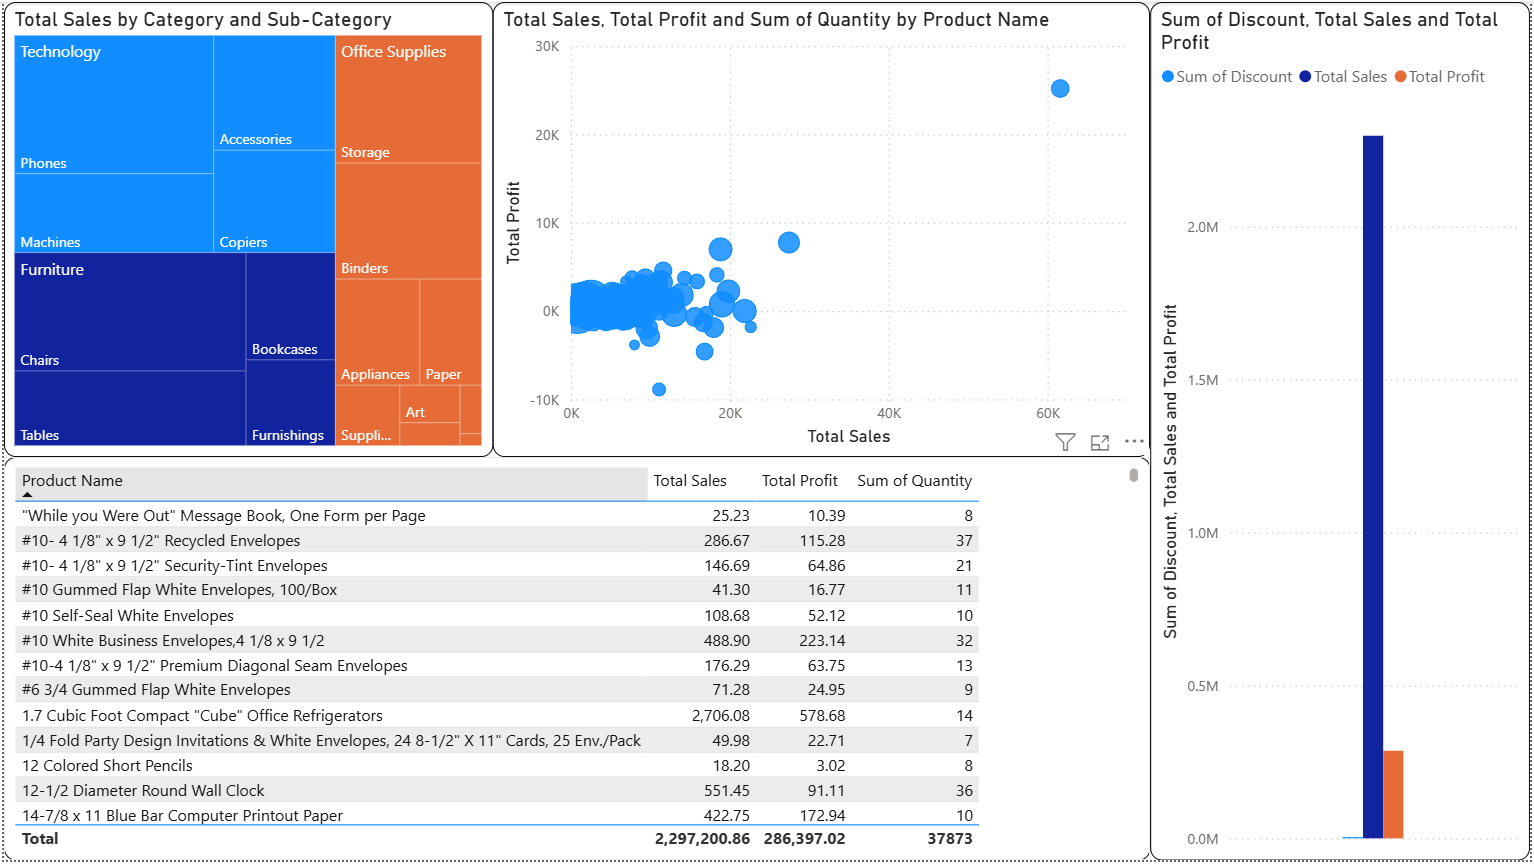

This screenshot's page, from the dashboard's own definition file:
{"tool":"powerbi","page":{"name":"P2 - Product Performance","canvas":[1280,720],"ordinal":1},"visuals":[{"type":"treemap","fields":{"Group":["superstore_clean.Category"],"Details":["superstore_clean.Sub-Category"],"Values":["superstore_clean.Total Sales"]},"box":[0,0,410,381.4],"z":0},{"type":"scatterChart","fields":{"X":["superstore_clean.Total Sales"],"Y":["superstore_clean.Total Profit"],"Size":["Sum(superstore_clean.Quantity)"],"Category":["superstore_clean.Product Name"]},"box":[410,0,551.4,381.4],"z":1000},{"type":"lineClusteredColumnComboChart","fields":{"Y":["Sum(superstore_clean.Discount)","superstore_clean.Total Sales","superstore_clean.Total Profit"]},"box":[961.4,0,318.6,720],"z":2000},{"type":"tableEx","fields":{"Values":["superstore_clean.Product Name","superstore_clean.Total Sales","superstore_clean.Total Profit","Sum(superstore_clean.Quantity)"]},"box":[0,381.4,961.4,338.6],"z":3000}]}

Visuals, with their boxes in screenshot pixels (x1, y1, x2, y2), scaled from the page's 1280x720 canvas onto the 1534x864 screenshot:
treemap - superstore_clean.Category x superstore_clean.Sub-Category: rect(0, 0, 491, 458)
scatterChart - superstore_clean.Total Sales x superstore_clean.Total Profit: rect(491, 0, 1152, 458)
lineClusteredColumnComboChart - Sum(superstore_clean.Discount) x superstore_clean.Total Sales: rect(1152, 0, 1533, 863)
tableEx - superstore_clean.Product Name x superstore_clean.Total Sales: rect(0, 458, 1152, 863)
